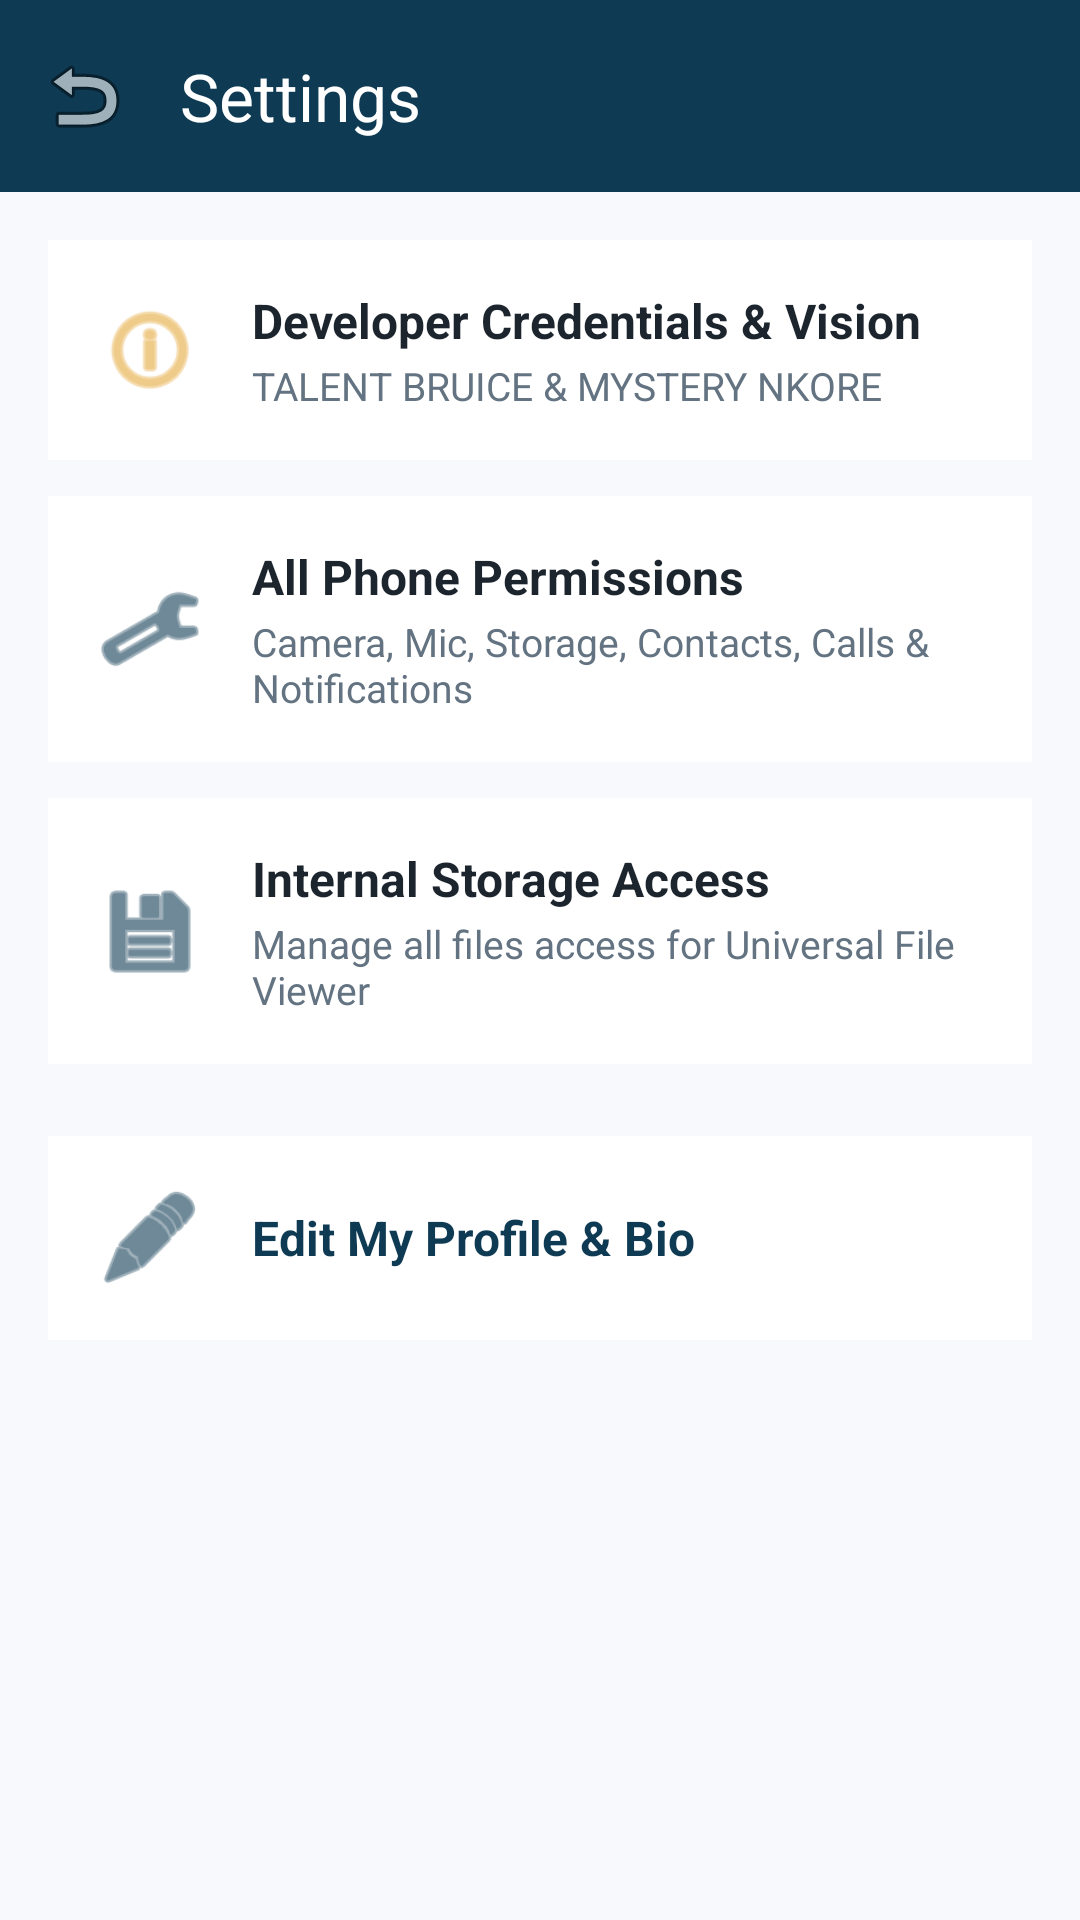

Named icons in this screenshot (1080*1920) and their centers, [x,y]:
info details: [150,350]
manage: [150,629]
save: [150,931]
